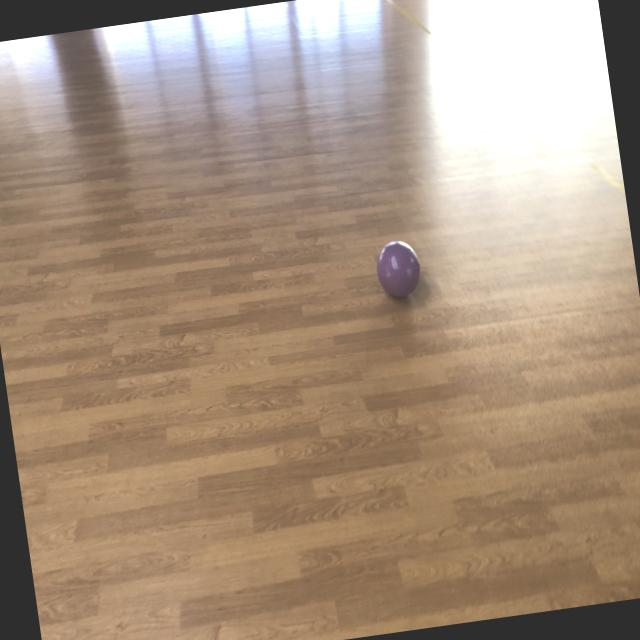purple_ball: (375, 240, 425, 304)
